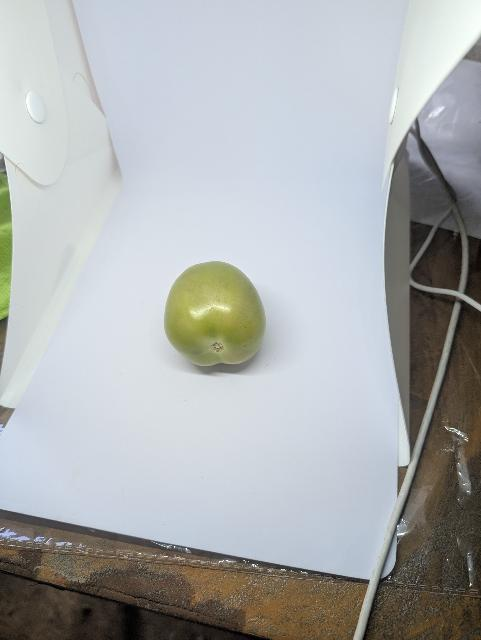green: (151, 254, 277, 376)
